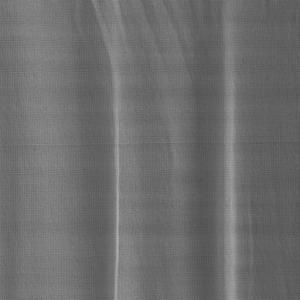Wrinkle: (11, 1, 264, 300)
